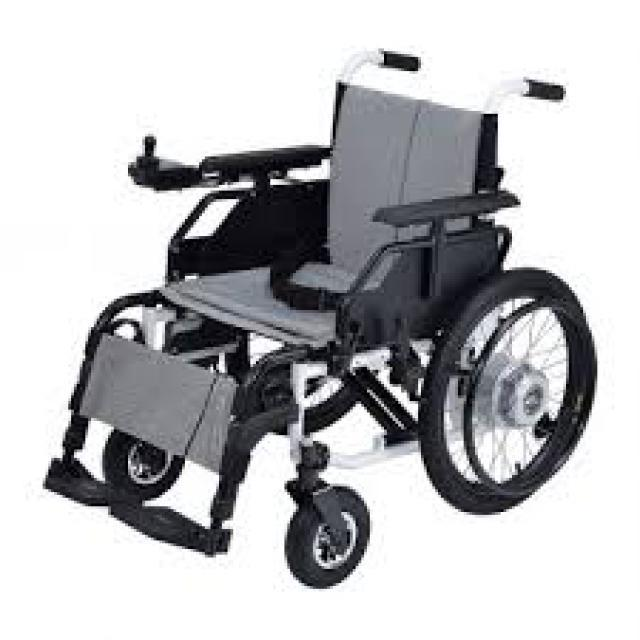wheelchair: (29, 37, 598, 603)
